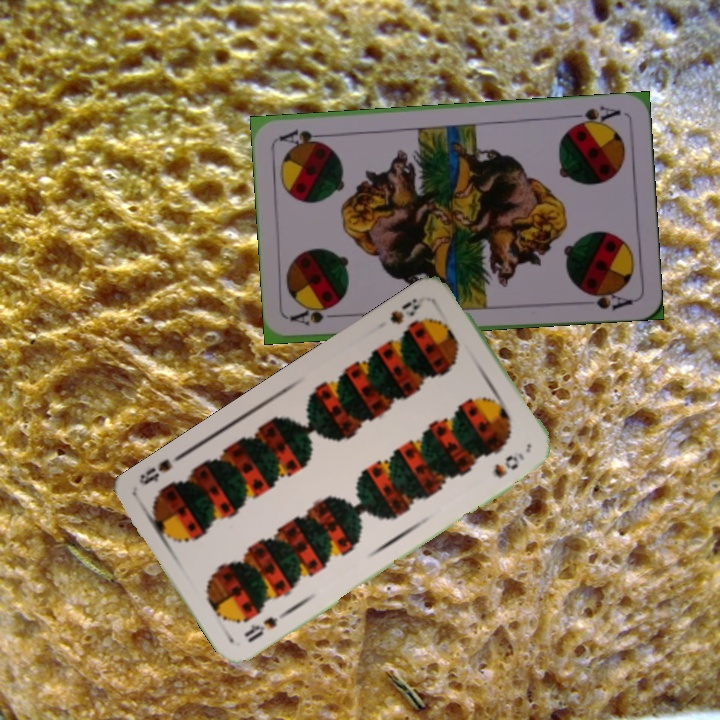S8: (240, 607, 291, 645), (385, 293, 429, 328)
SA: (565, 102, 623, 130), (287, 305, 347, 328)
